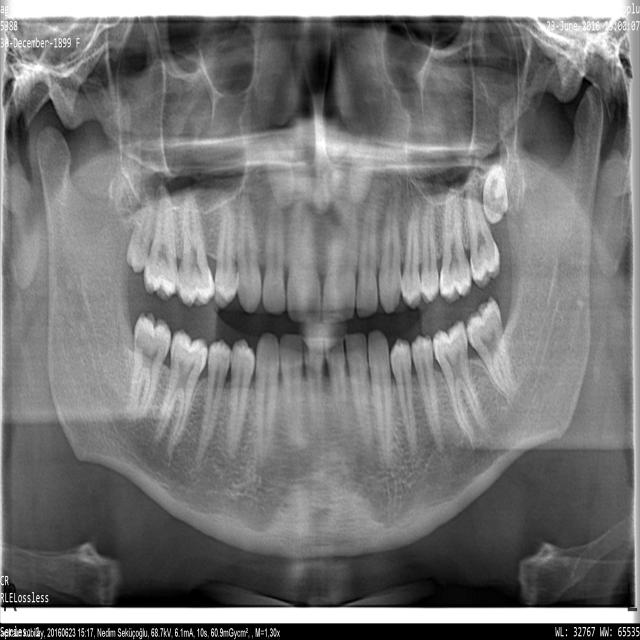Canine: (368, 331, 391, 465), (236, 192, 261, 313), (256, 333, 279, 463), (345, 333, 372, 443), (379, 198, 401, 314)
Incisores: (322, 206, 358, 323), (287, 201, 320, 323), (263, 193, 285, 315), (357, 197, 378, 317), (280, 335, 303, 444), (303, 338, 325, 444), (325, 337, 348, 434)
Premolars: (190, 340, 231, 474), (411, 335, 443, 449), (228, 339, 254, 457), (390, 339, 416, 454), (213, 198, 238, 307), (401, 204, 421, 308), (421, 196, 438, 303)
molars: (433, 321, 487, 449), (154, 329, 207, 453), (467, 297, 519, 397), (176, 194, 215, 307), (130, 312, 171, 417), (144, 186, 178, 301), (440, 193, 471, 302), (467, 189, 499, 287), (127, 195, 155, 272), (482, 166, 508, 224)
